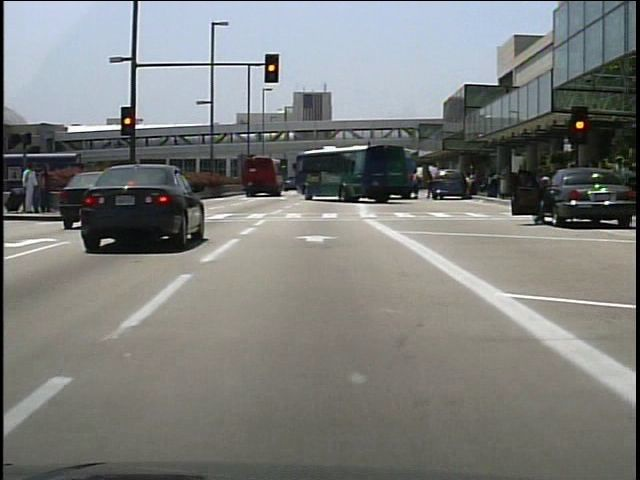person: (530, 171, 558, 227), (21, 162, 42, 216), (36, 162, 54, 221), (406, 168, 420, 201), (462, 169, 474, 199)
